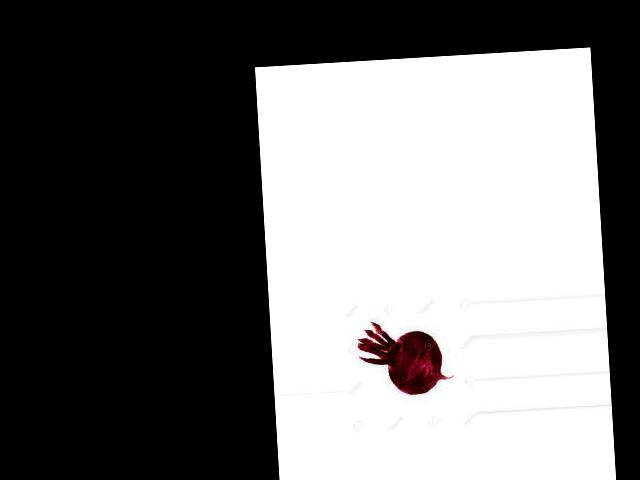beet: (356, 317, 454, 398)
